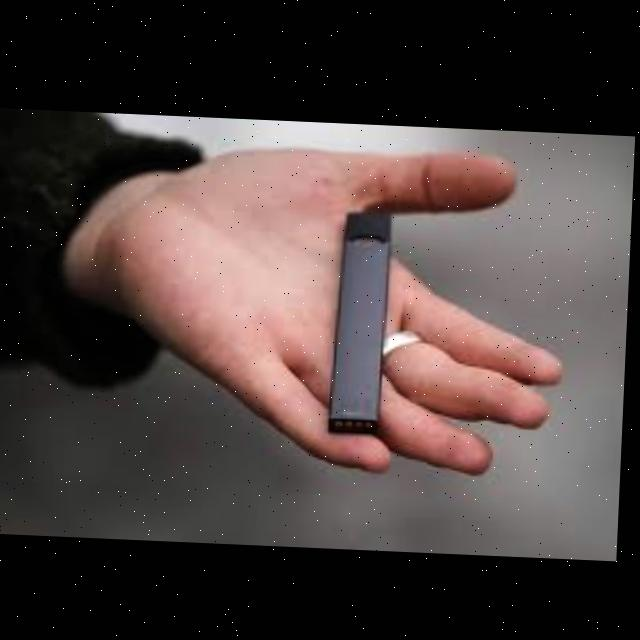vape: (334, 206, 391, 428)
